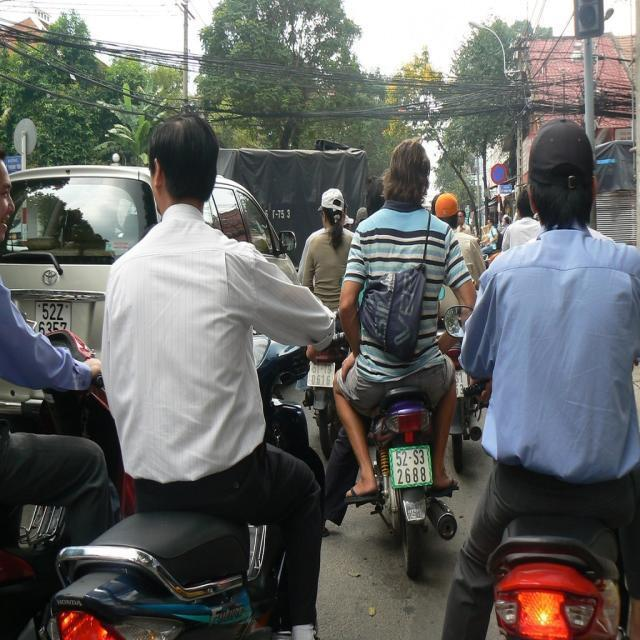motorcycle: (3, 505, 285, 639), (366, 390, 462, 590), (471, 529, 629, 640)
plate: (385, 441, 435, 489), (304, 359, 337, 390)
